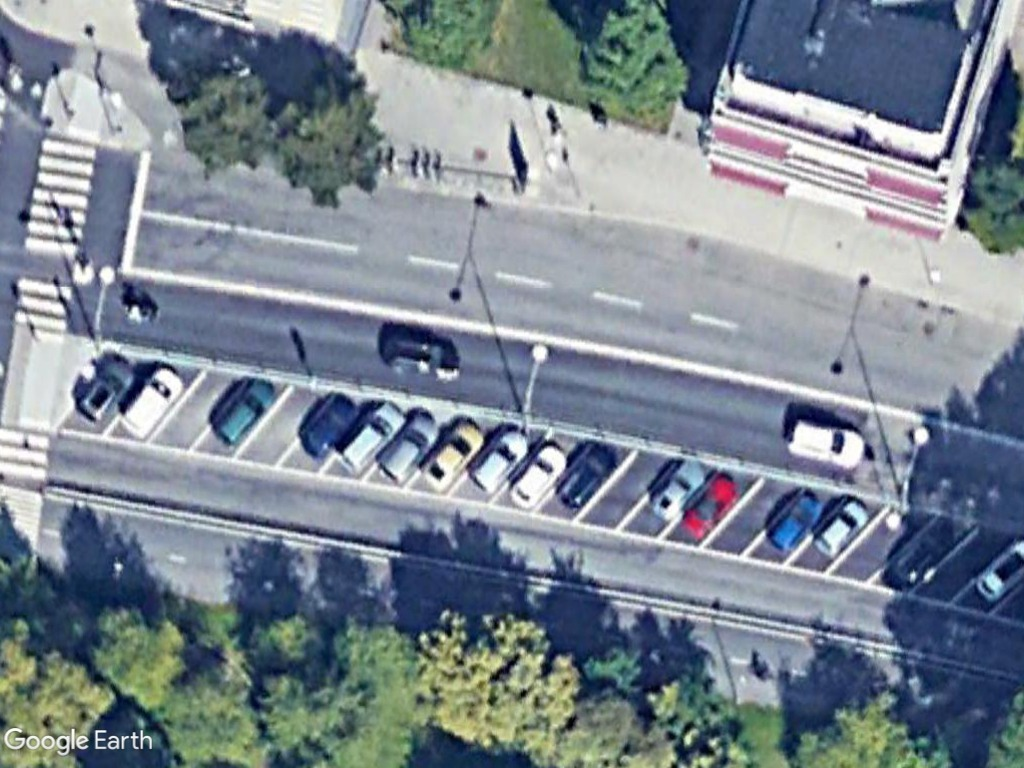car: (334, 396, 411, 480), (206, 373, 283, 451), (70, 348, 140, 428), (374, 409, 444, 487), (549, 439, 622, 512), (784, 415, 873, 474), (417, 415, 484, 492), (504, 437, 573, 511), (464, 425, 534, 497), (377, 330, 468, 384), (679, 471, 745, 541), (807, 497, 876, 563), (296, 391, 361, 461), (761, 488, 827, 555), (649, 455, 714, 521)
van: (114, 361, 192, 442)
